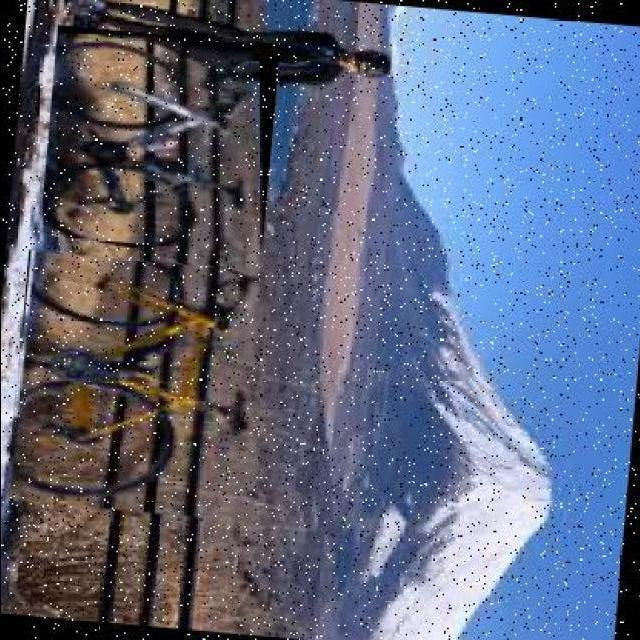bicycle: (6, 249, 274, 523), (38, 25, 281, 256)
